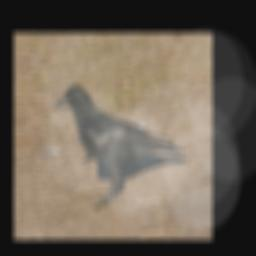Crow: (55, 63, 191, 215)
